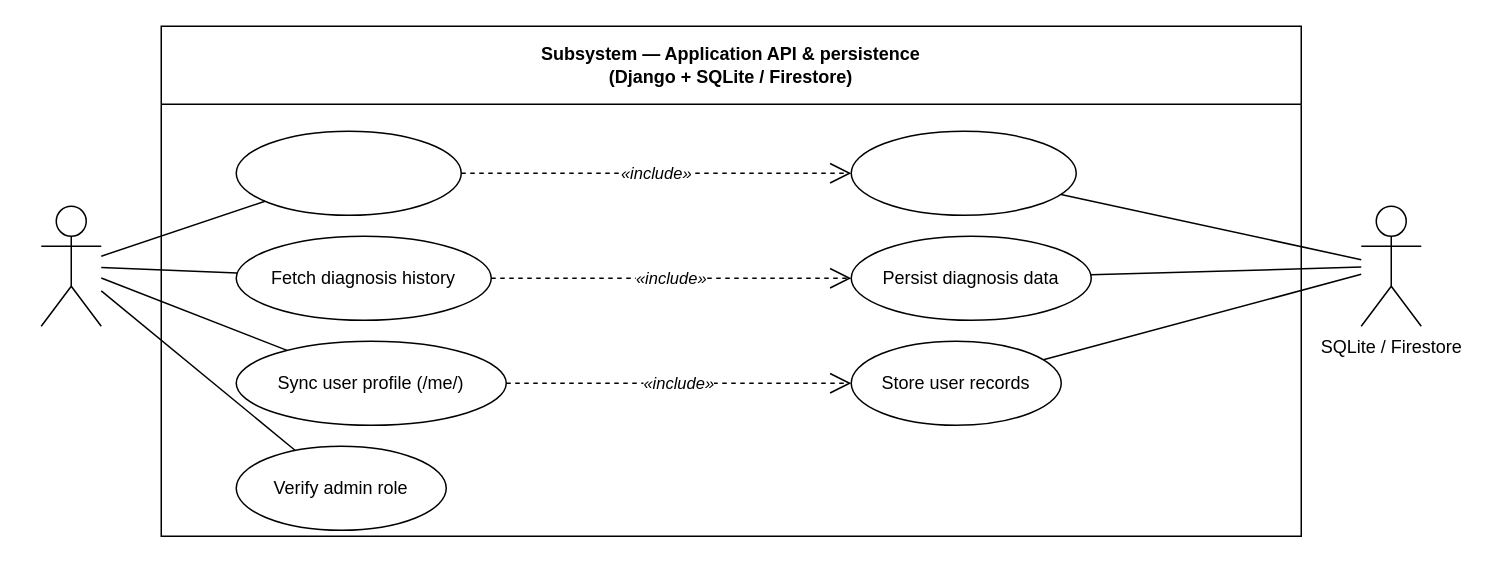
Image size: 1488x563. Some labels were removed from this diagram. Each missing label, with the centre of its shape:
"Django API" goes at (x=70, y=265).
"Read / write records" goes at (x=963, y=172).
"Save diagnosis result" goes at (x=348, y=172).
